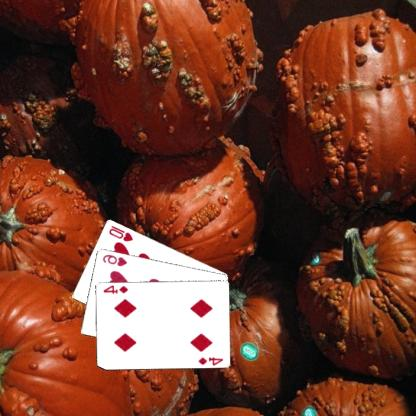10H: (108, 223, 136, 242)
4D: (102, 282, 131, 295), (196, 354, 226, 366)
6H: (102, 252, 130, 267)
